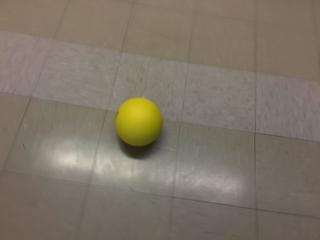power_cell: (113, 96, 167, 148)
